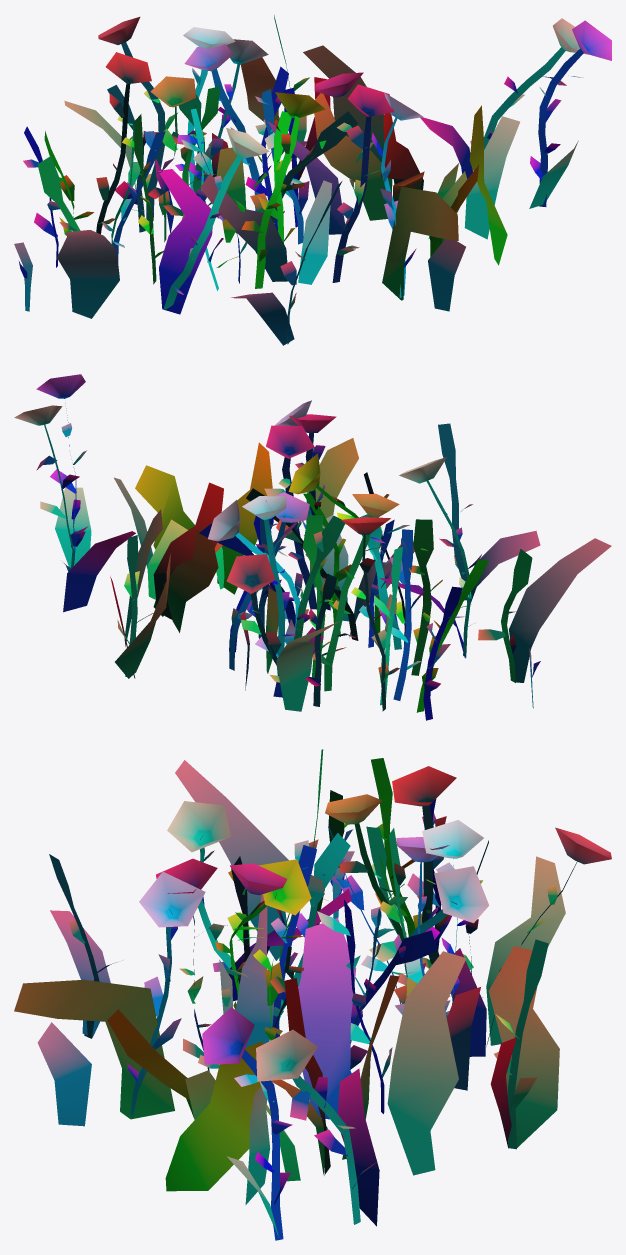
Rendered from matted_pratia_b.fbx.
3 renders of one model, top to bottom at view 1: azimuth 30°, elevation 25°; view 2: azimuth 150°, elevation 25°; view 3: azimuth 270°, elevation 25°, orthographic. The views are drawn at different scales.
Visible parts, largest first — view 1: _2ae0_VarB_LOD1; view 2: _2ae0_VarB_LOD1; view 3: _2ae0_VarB_LOD1.
Boxes of the visible parts, x1,y1,x2,y2 form: _2ae0_VarB_LOD1: (14,15,611,345); _2ae0_VarB_LOD1: (14,374,611,720); _2ae0_VarB_LOD1: (14,749,611,1240).
Size of the model in its own units: 26.87 by 9.11 by 19.32.
